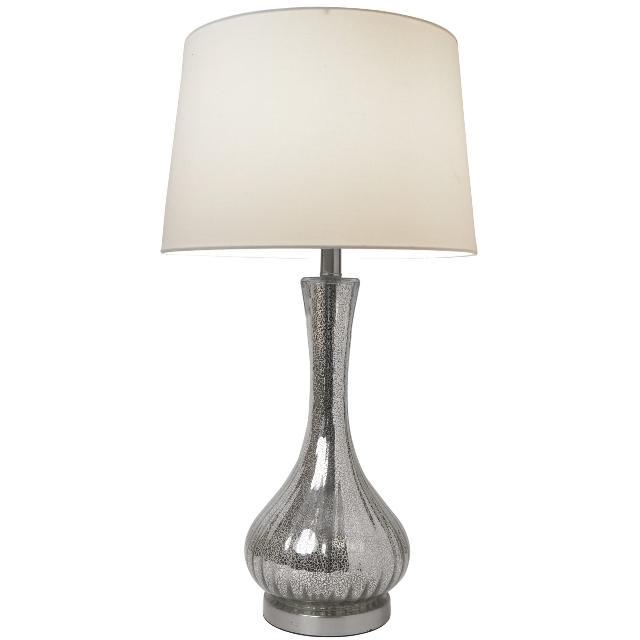lamp: (161, 10, 479, 639)
